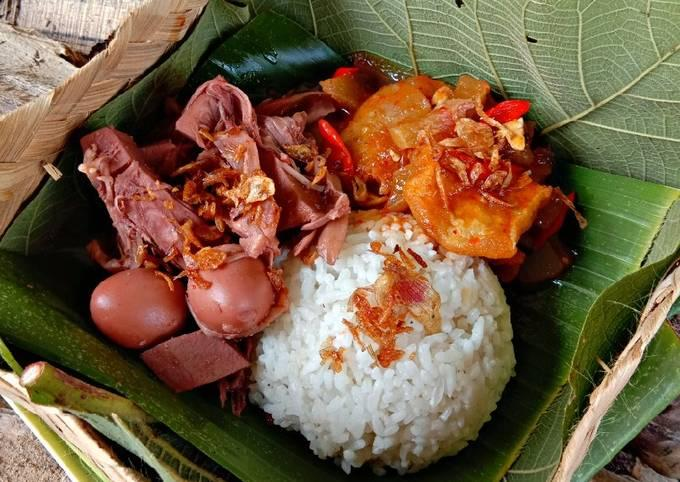gudeg: (77, 67, 574, 474)
